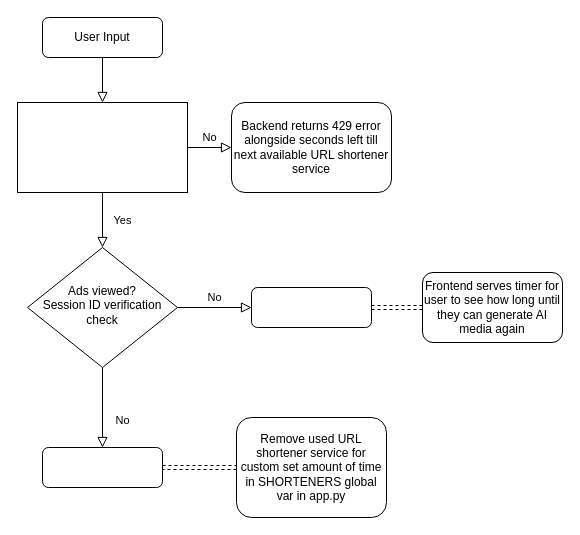
This 580x535 diagram has some shape labels left out. Each missing label, with the box of its shape:
Check if URL shortener service is available and not previously used by user: (16, 102, 188, 192)
Return to site, do not generate AI media: (250, 286, 372, 328)
Return to site, generate AI media: (42, 446, 162, 488)
